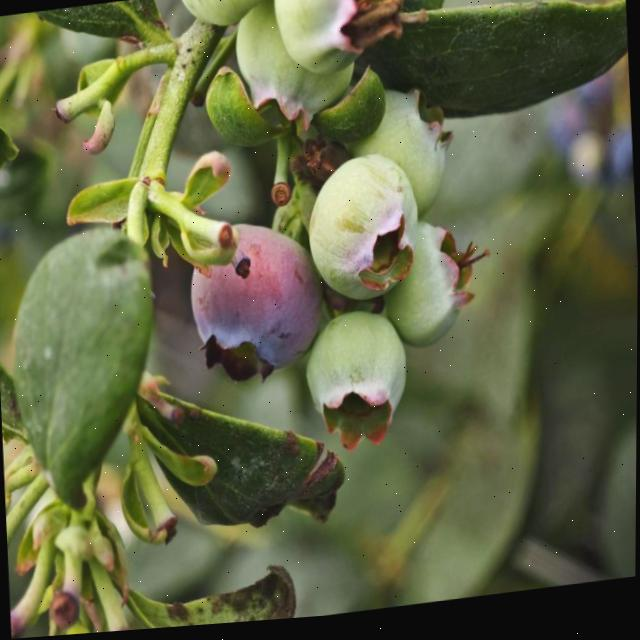Semi-RipeBlueBerry: (181, 201, 338, 401), (300, 310, 425, 449)
UnripeBlueBerry: (295, 148, 431, 312)
